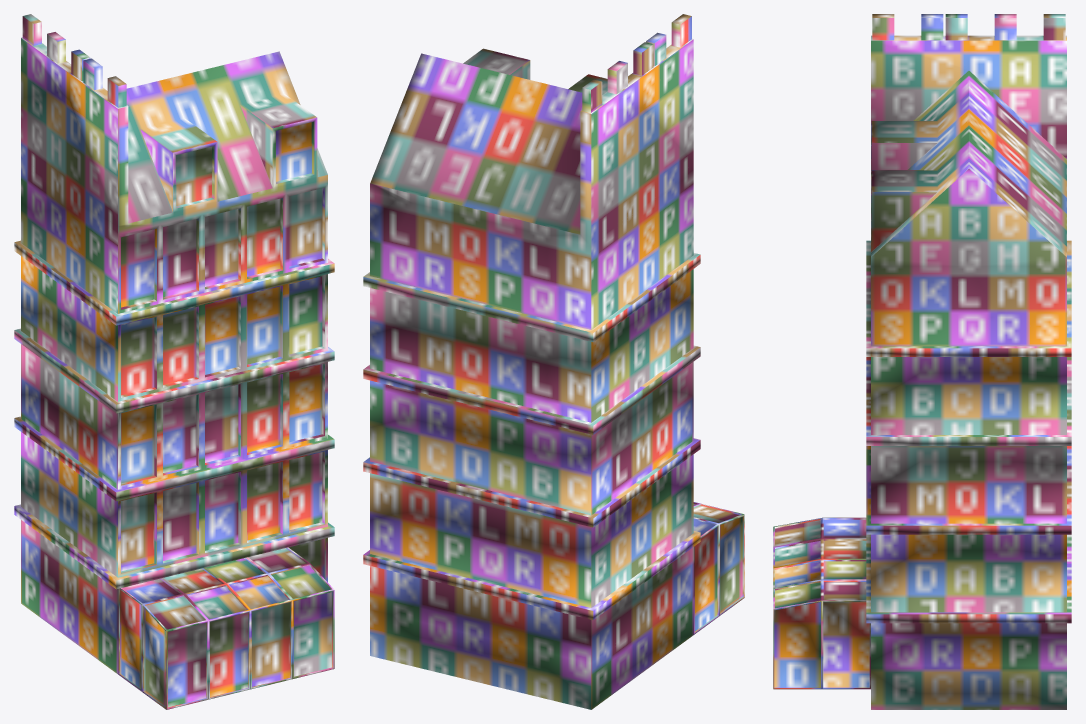
Rendered from building_side_04.obj.
3 views of the same model, side by side, from view 1: azimuth 30°, elevation 25°; view 2: azimuth 150°, elevation 25°; view 3: azimuth 270°, elevation 25° (orthographic). The views are drawn at different scales.
Visible parts, largest first — view 1: Cube4; view 2: Cube4; view 3: Cube4.
Boxes of the visible parts, x1,y1,x2,y2 form: Cube4: (14,14,334,709); Cube4: (363,14,744,709); Cube4: (773,14,1071,709).
Bounding box in the file's own units: 5.2 × 13.37 × 6.1.
1 material, 1 textured.
